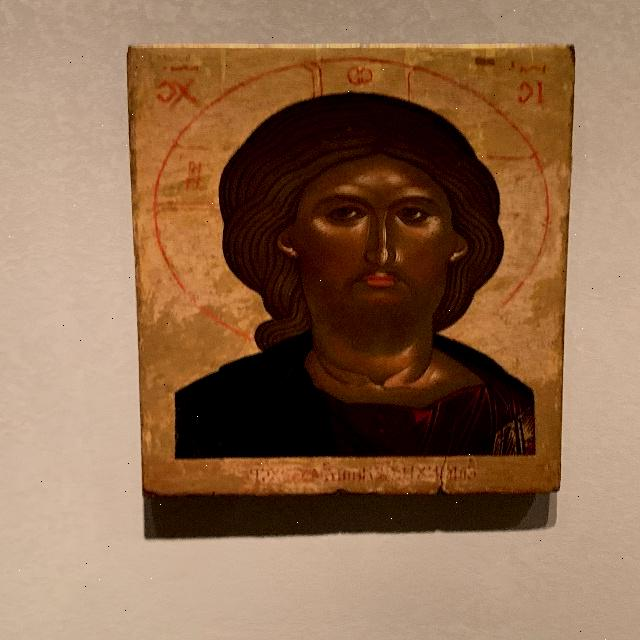aura: (167, 55, 545, 348)
christ: (150, 51, 550, 481)
